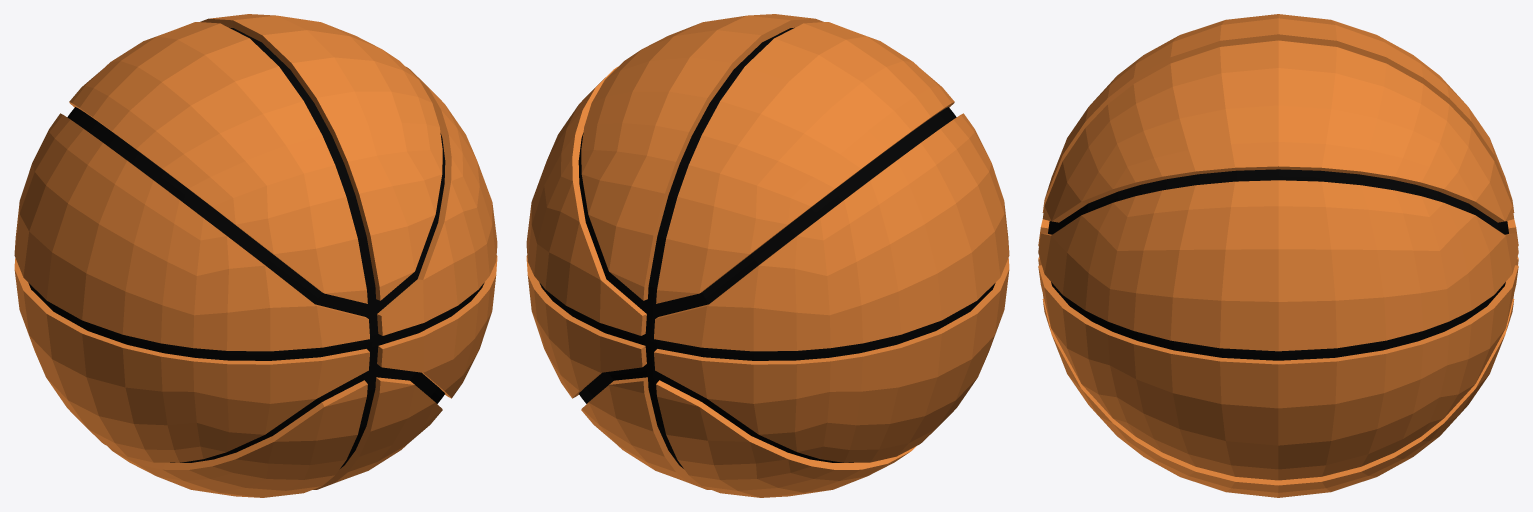
File: b ball.fbx
3 renders of one model, left to right at view 1: azimuth 30°, elevation 25°; view 2: azimuth 150°, elevation 25°; view 3: azimuth 270°, elevation 25°, orthographic.
Visible parts, largest first — view 1: Cube; view 2: Cube; view 3: Cube.
Boxes of the visible parts, <box> form: Cube: <box>14,14,497,497</box>; Cube: <box>526,14,1009,497</box>; Cube: <box>1038,14,1518,497</box>.
Size of the model in its own units: 234 by 234 by 233.
